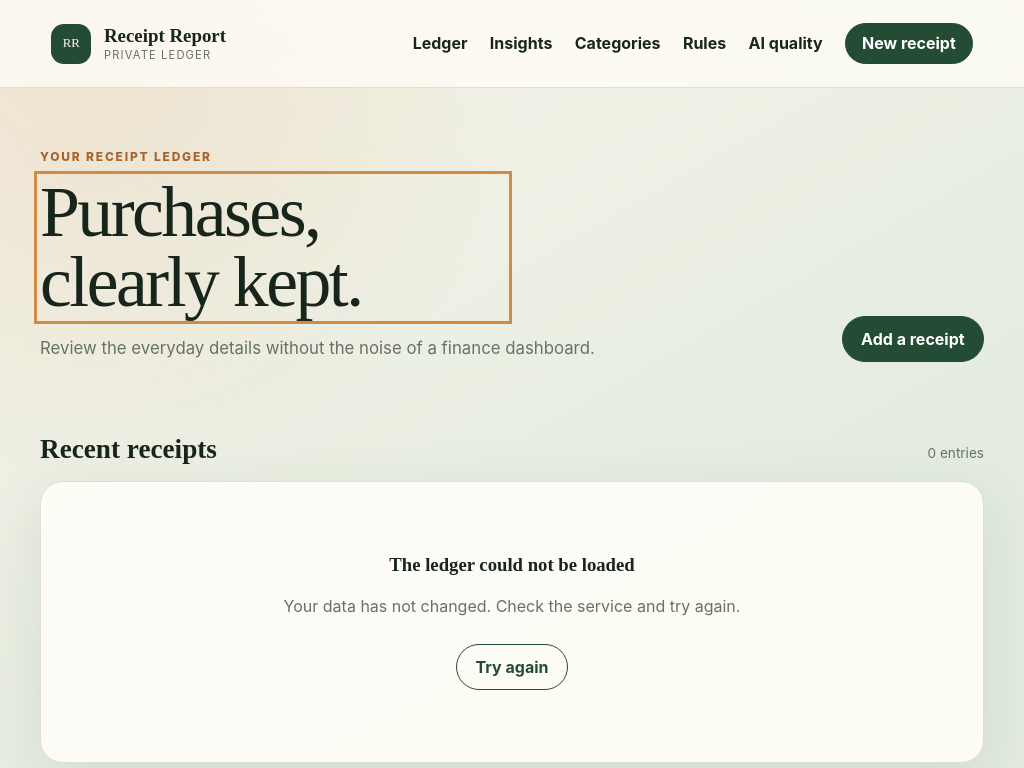
Test: application shell › renders populated receipts and retries recoverable errors
Click the button "Try again": point(512, 667) [456,644,568,690]
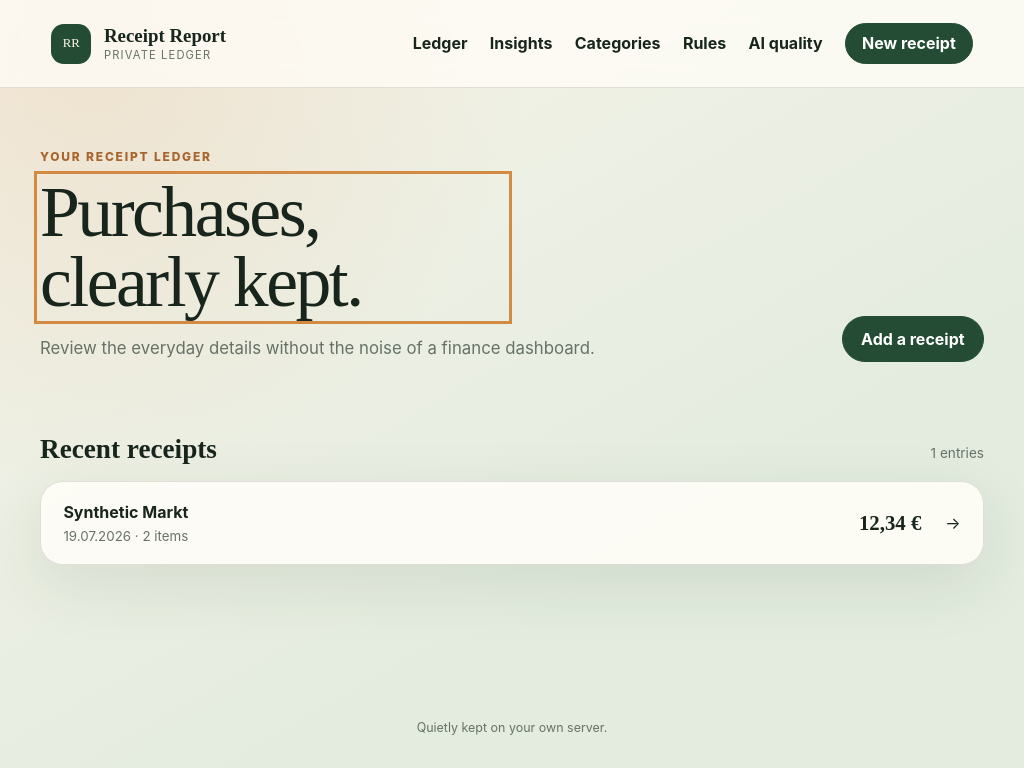
Expected: the text "Synthetic Markt" is shown, [63,502,188,522]
Expected: the text "12,34 €" is shown, [859,511,921,535]
